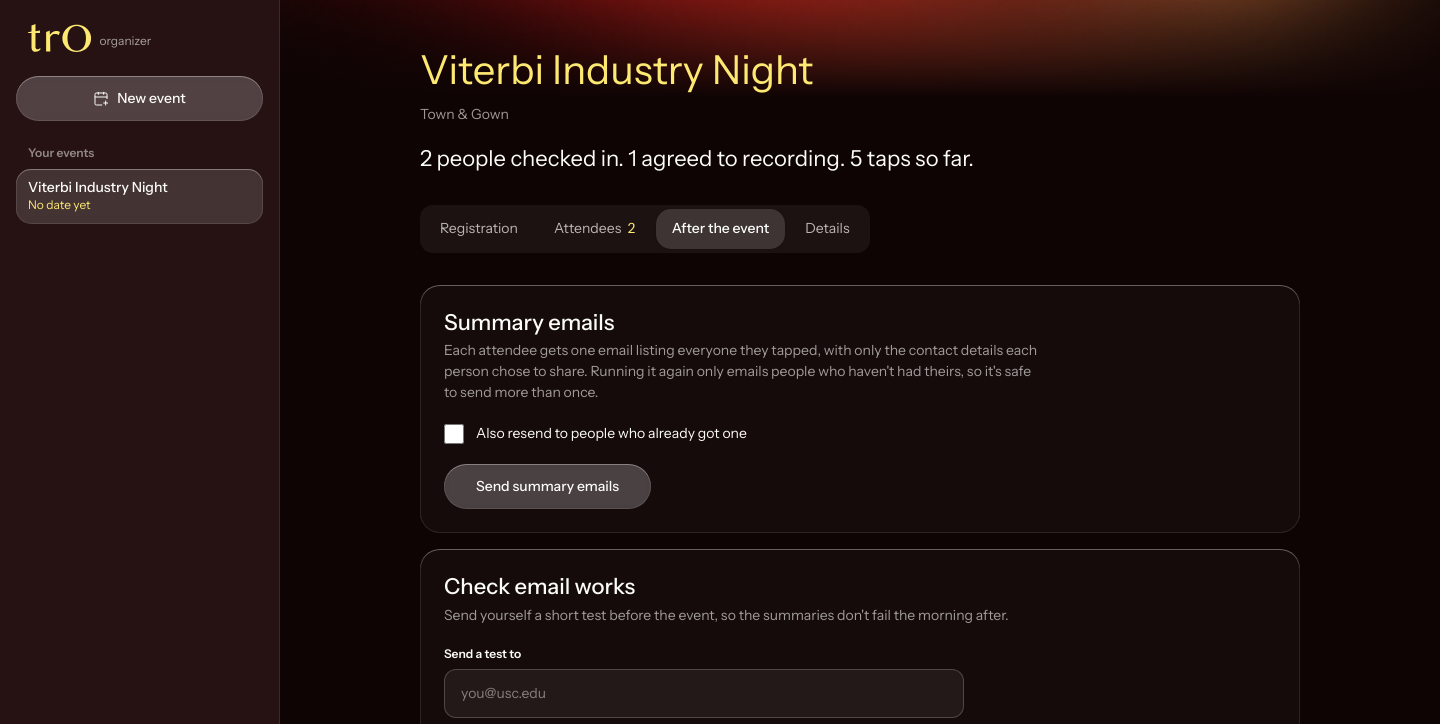
Scenario: organizer console › confirms before sending summary emails and reports the result
Click the button "Send summary emails": (548, 486) [444, 464, 651, 509]
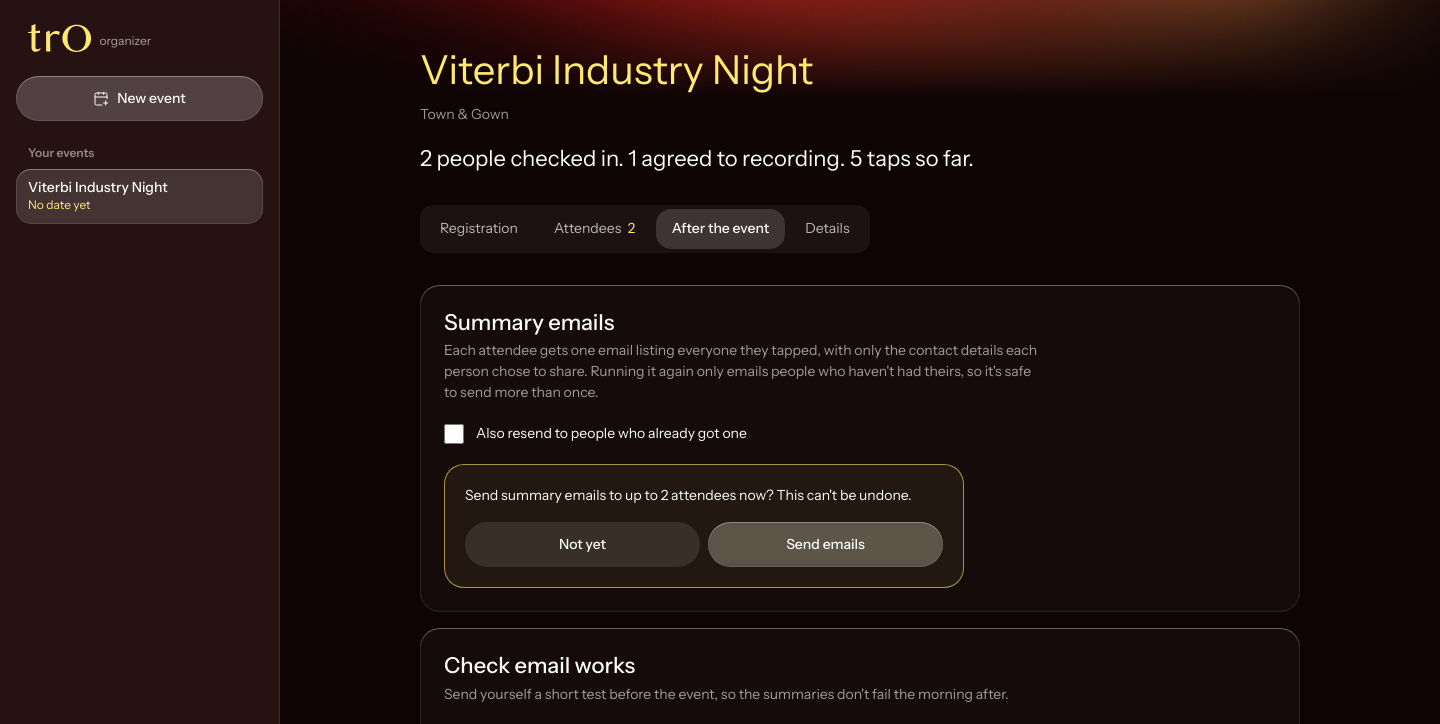
Click the button "Send emails": (826, 544) [708, 522, 943, 567]
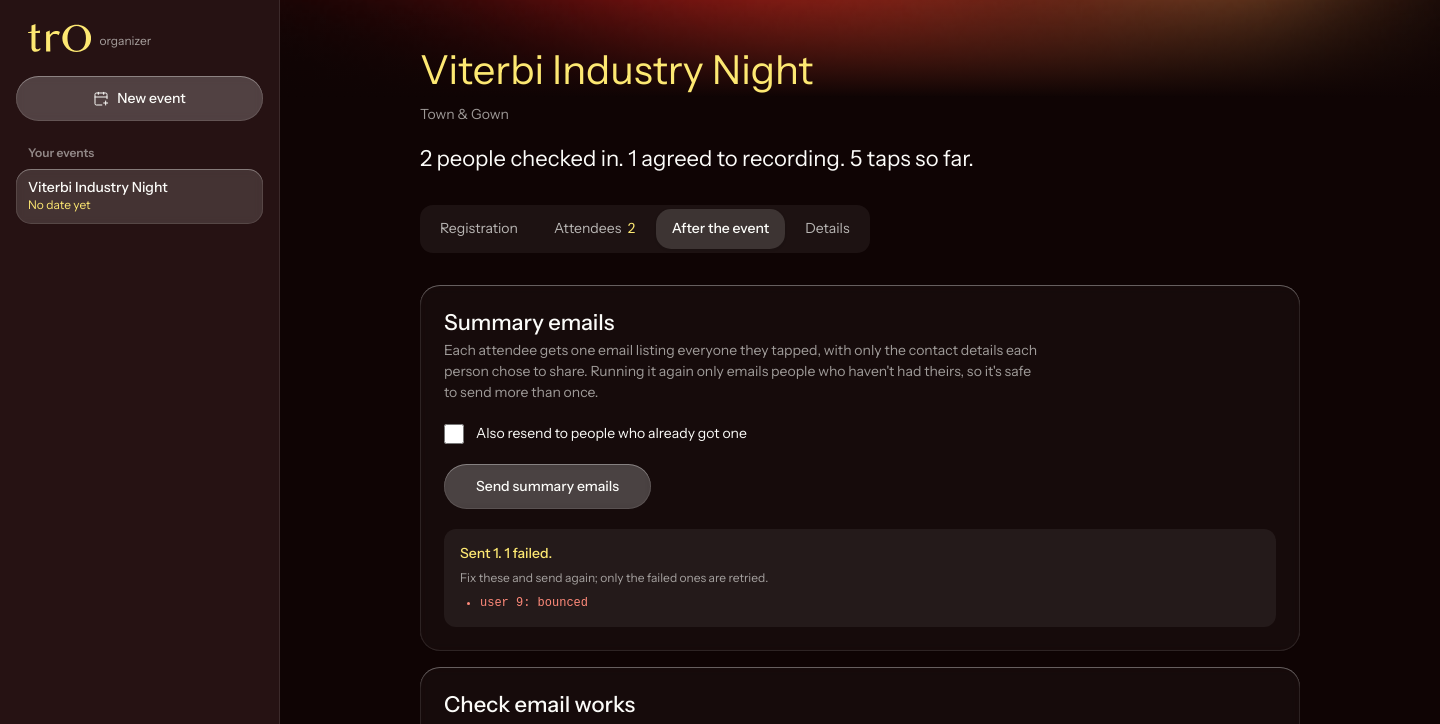
expect the text "Sent 1. 1 failed." is shown: met, box [460, 544, 552, 562]
expect the list item "user 9: bounced" is shown: met, box [480, 596, 588, 610]
